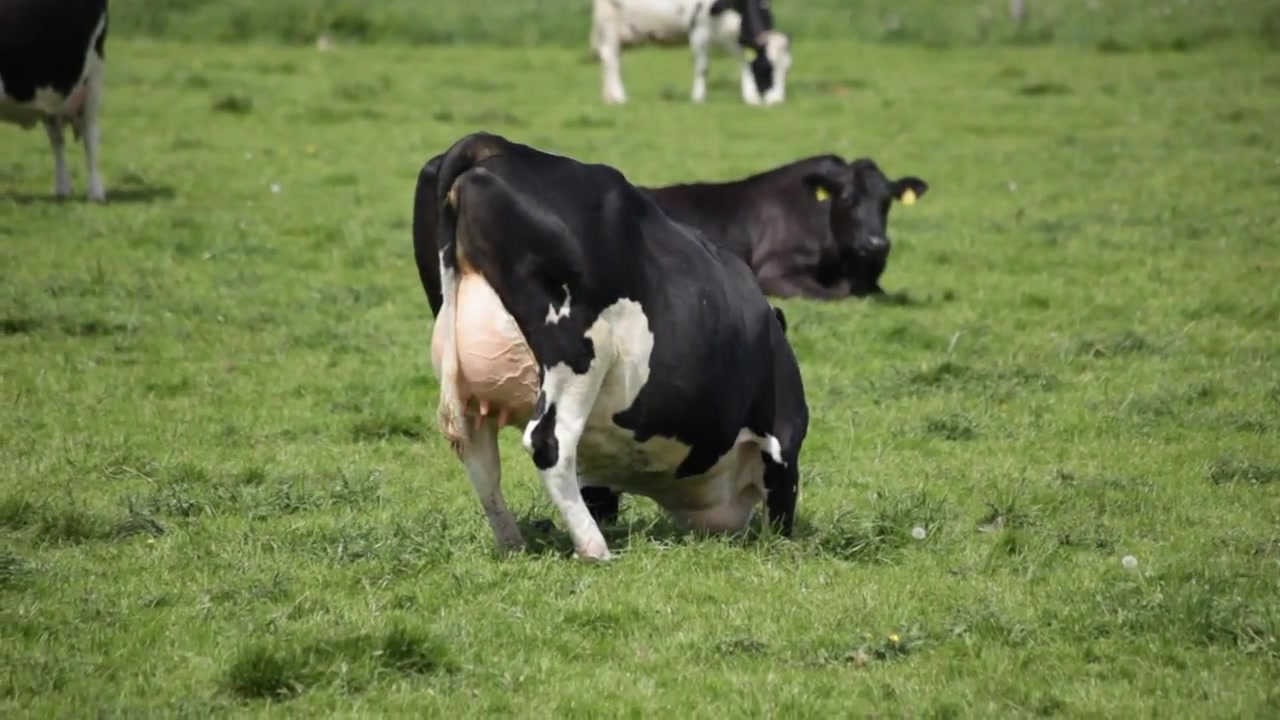cow: (406, 127, 812, 566)
